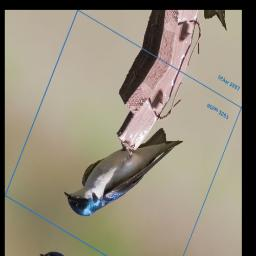Swallow: (59, 91, 186, 253)
